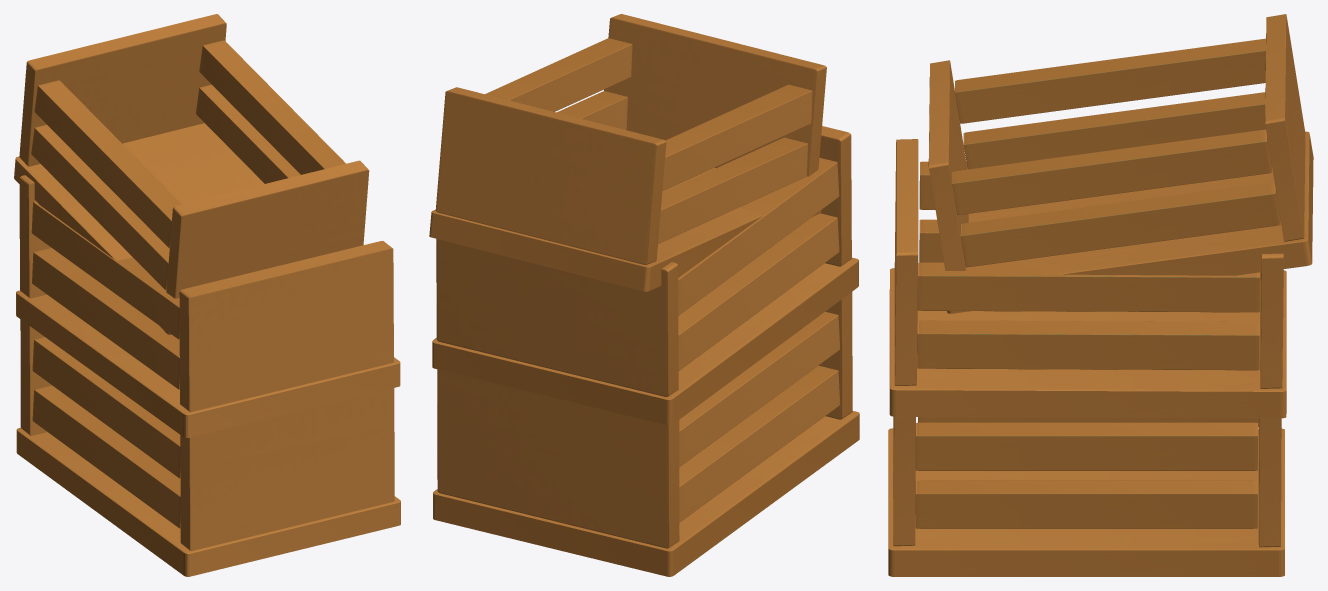
Rendered from caixas.fbx.
3 renders of one model, left to right at view 1: azimuth 30°, elevation 25°; view 2: azimuth 150°, elevation 25°; view 3: azimuth 270°, elevation 25°, orthographic. The views are drawn at different scales.
Parts seen in each view (by area): view 1: Cube.004, Cube.003, Cube.001; view 2: Cube.004, Cube.001, Cube.003; view 3: Cube.004, Cube.003, Cube.001.
Part boxes in pixels (<box>): Cube.004: <box>14,14,369,334</box>; Cube.003: <box>16,175,400,437</box>; Cube.001: <box>16,319,400,576</box>; Cube.004: <box>429,14,826,291</box>; Cube.001: <box>433,292,859,576</box>; Cube.003: <box>432,126,858,425</box>; Cube.004: <box>928,14,1313,313</box>; Cube.003: <box>889,139,1286,418</box>; Cube.001: <box>888,416,1284,576</box>.
Size of the model in its own units: 28.96 by 49.84 by 42.59.
1 material, 1 textured.
